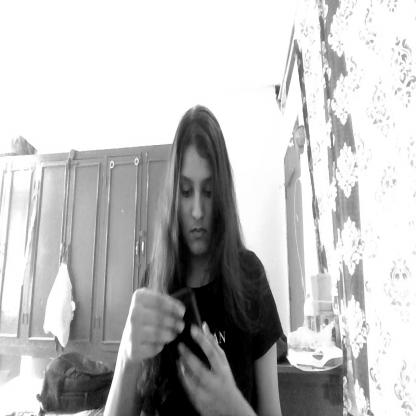Normal: (174, 134, 220, 258)
